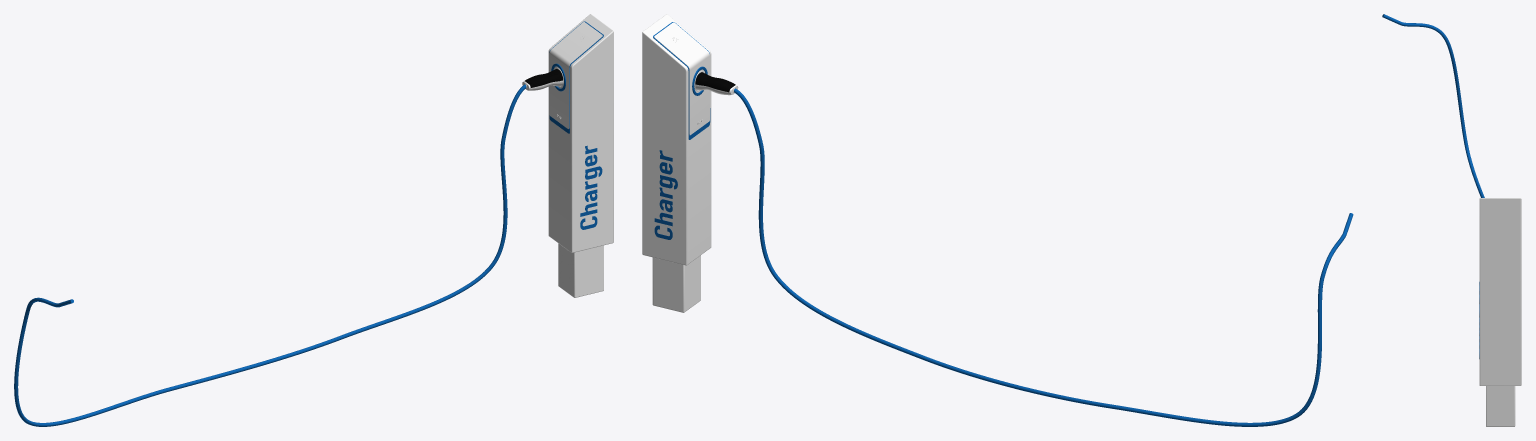
The model's file is Electric Car Charge Station.FBX.
The picture shows the model from 3 angles, left to right: view 1: azimuth 30°, elevation 25°; view 2: azimuth 150°, elevation 25°; view 3: azimuth 270°, elevation 25°; orthographic projection. The views are drawn at different scales.
Parts seen in each view (by area): view 1: Electric Car Charge Station; view 2: Electric Car Charge Station; view 3: Electric Car Charge Station.
Boxes of the visible parts, x1,y1,x2,y2 form: Electric Car Charge Station: [14, 14, 613, 426]; Electric Car Charge Station: [642, 14, 1353, 426]; Electric Car Charge Station: [1382, 14, 1521, 426].
Size of the model in its own units: 3.47 by 1.43 by 0.774.
